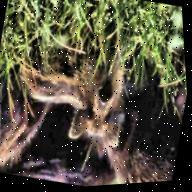boar: (2, 15, 185, 162), (91, 74, 192, 186), (0, 80, 53, 180)
